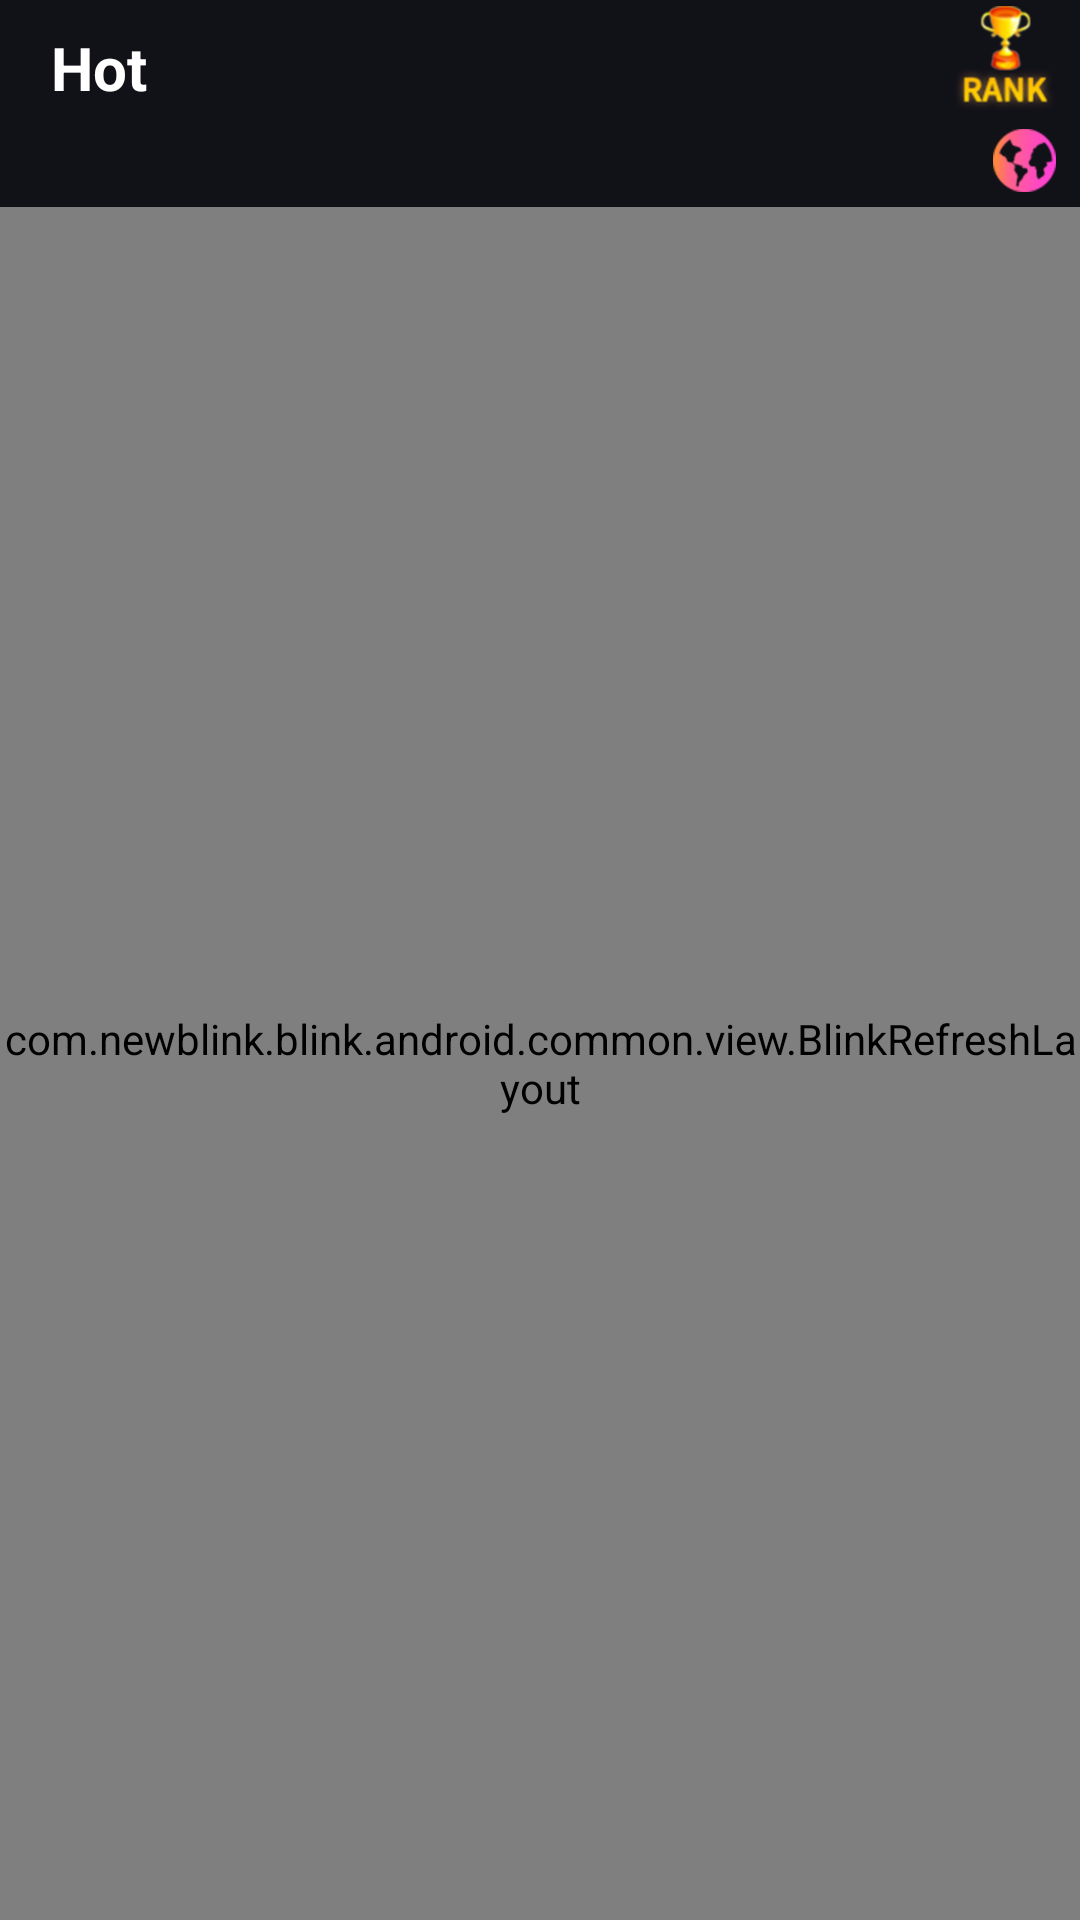

Point at icon controls on the screen. Image size 1080×1920, points as (x=x, y=y).
country change home: (x=1024, y=160)
